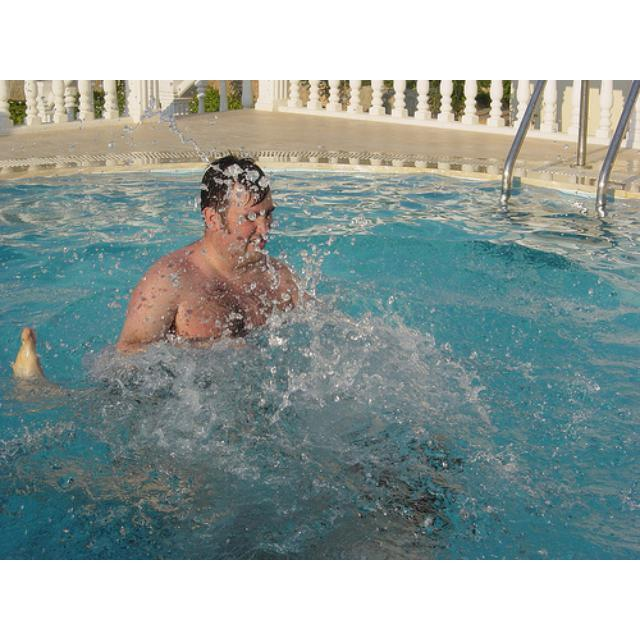human: (105, 156, 305, 376)
